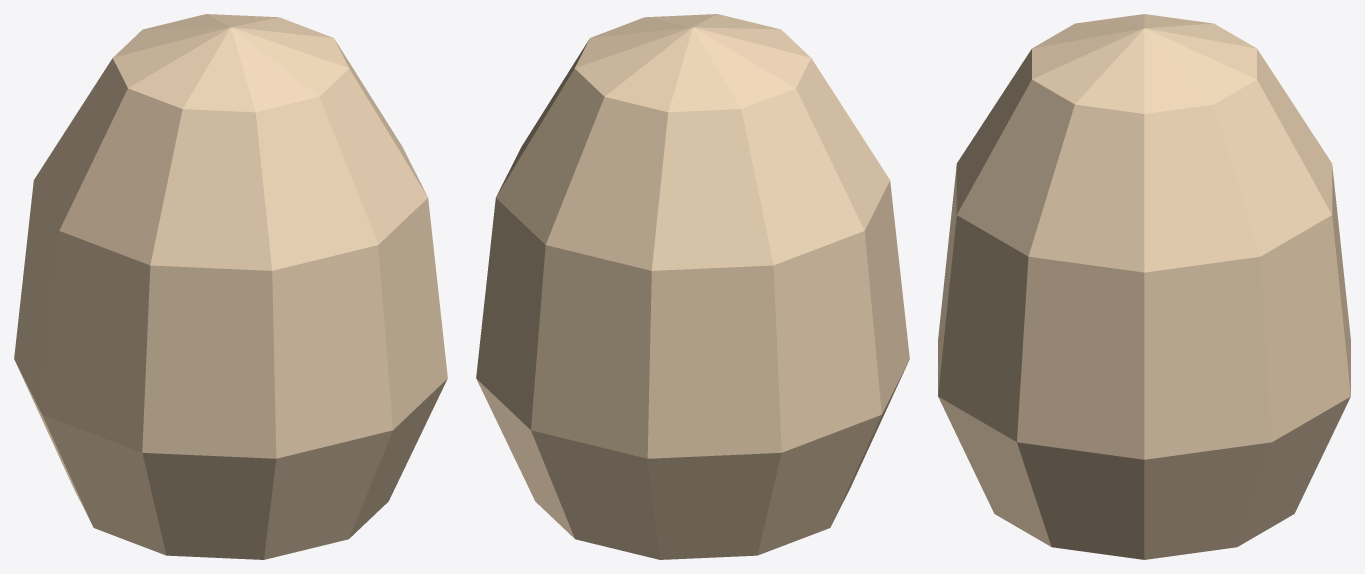
Rendered from egg.glb.
3 renders of one model, left to right at view 1: azimuth 30°, elevation 25°; view 2: azimuth 150°, elevation 25°; view 3: azimuth 270°, elevation 25°, orthographic.
Parts seen in each view (by area): view 1: egg; view 2: egg; view 3: egg.
Part boxes in pixels (x1,y1,x2,y2): egg: (14,14,447,559); egg: (476,14,909,559); egg: (938,14,1350,559).
Bounding box in the file's own units: 0.044 × 0.056 × 0.0418.
